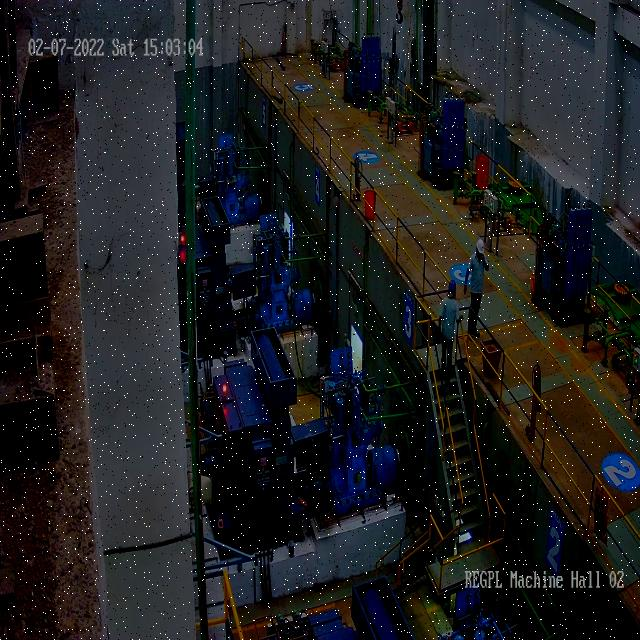Boots: (473, 325, 482, 338), (468, 328, 473, 343), (446, 374, 450, 386), (442, 360, 446, 370)
